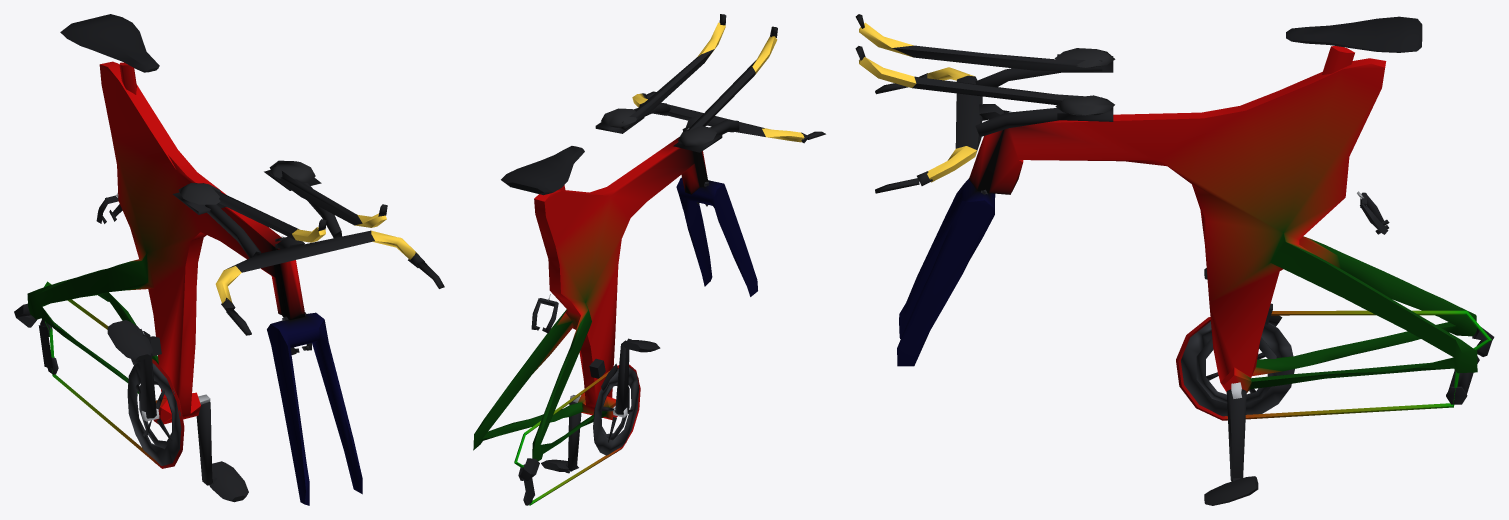
File: espada_lod1.glb
3 renders of one model, left to right at view 1: azimuth 30°, elevation 25°; view 2: azimuth 150°, elevation 25°; view 3: azimuth 270°, elevation 25°, orthographic. The views are drawn at different scales.
Parts seen in each view (by area): view 1: frame, cockpit, crankset, saddle, pedal_R, pedal_L, opt_derailleur, opt_brakes_rim; view 2: frame, cockpit, crankset, saddle, opt_derailleur, opt_brakes_rim; view 3: frame, cockpit, crankset, saddle, opt_derailleur, pedal_L.
Boxes of the visible parts, x1,y1,x2,y2 form: frame: [27, 61, 362, 505]; cockpit: [172, 160, 444, 335]; crankset: [127, 331, 212, 485]; saddle: [60, 14, 159, 72]; pedal_R: [107, 320, 152, 360]; pedal_L: [209, 461, 248, 502]; opt_derailleur: [14, 303, 161, 374]; opt_brakes_rim: [96, 192, 311, 354]; frame: [473, 136, 757, 505]; cockpit: [595, 14, 825, 152]; crankset: [568, 340, 639, 471]; saddle: [501, 146, 584, 195]; opt_derailleur: [518, 358, 617, 505]; opt_brakes_rim: [531, 181, 709, 333]; frame: [897, 46, 1491, 420]; cockpit: [855, 14, 1115, 193]; crankset: [1181, 321, 1294, 480]; saddle: [1286, 16, 1422, 52]; opt_derailleur: [1265, 303, 1494, 404]; pedal_L: [1204, 476, 1258, 505].
Size of the model in its own units: 0.4408 by 0.885 by 1.14.
